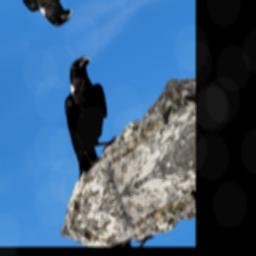Crow: (40, 48, 128, 182)
